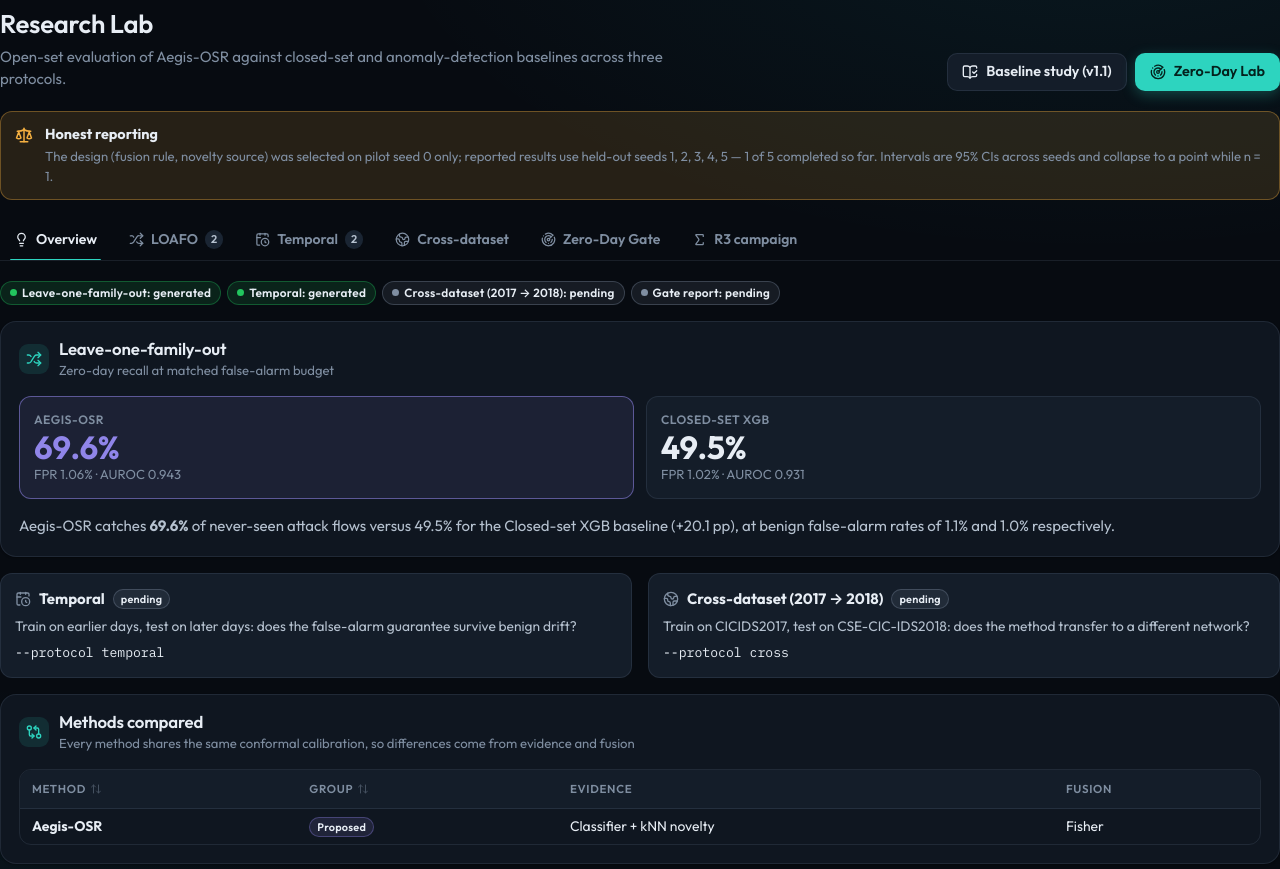
Test case: ResearchLabPage temporal adaptation › renders adaptation charts when the temporal block has adaptation rows
The image size is (1280, 869).
Expected: the text "catches" is shown, [92,516,149,535]
Click the tab "Temporal 2". click: (309,240)
box: [241,220,377,260]
(page scrolled)
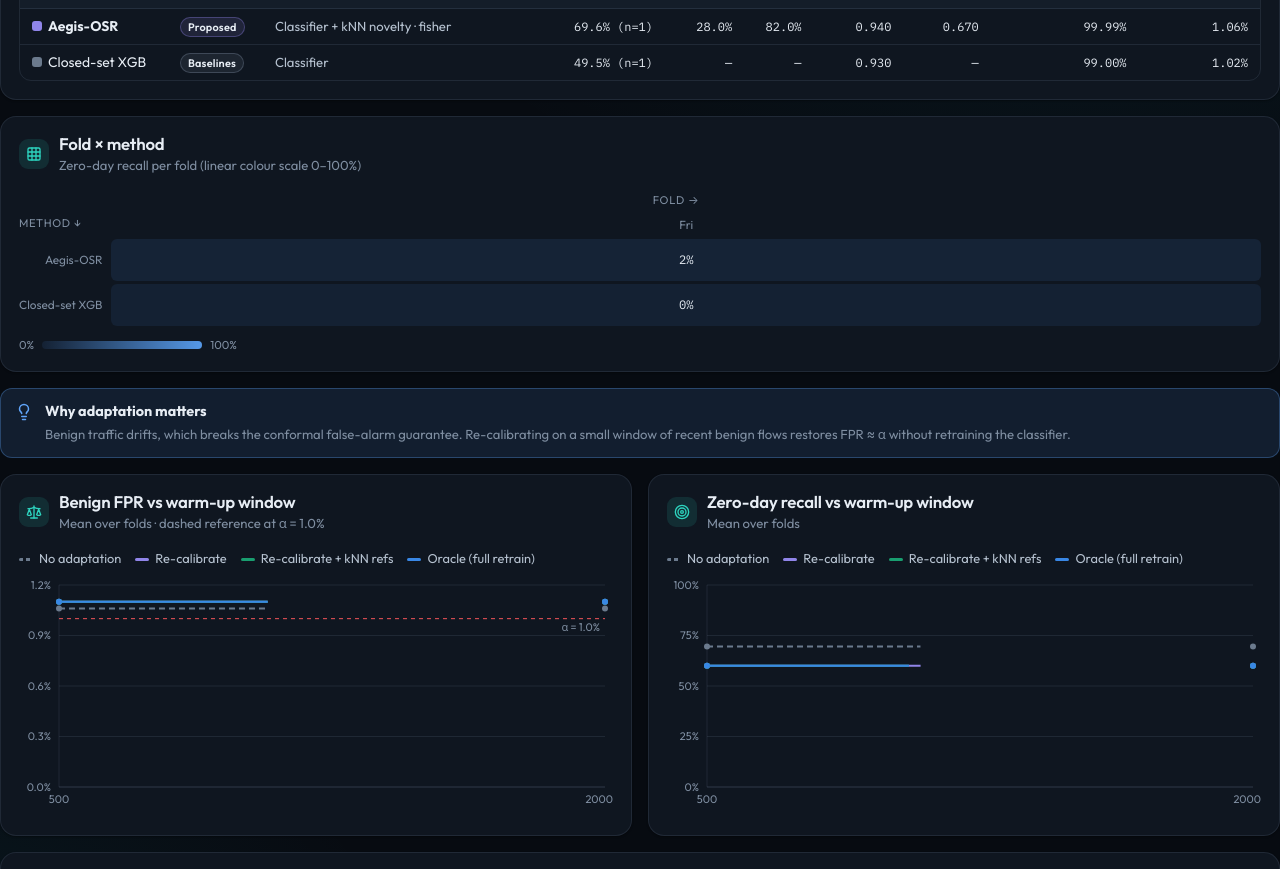
Result: the heading "Benign FPR vs warm-up window" is shown at [59,491,325,512]
Result: the text "breaks the conformal false-alarm guarantee" is shown at [45,426,1071,442]
